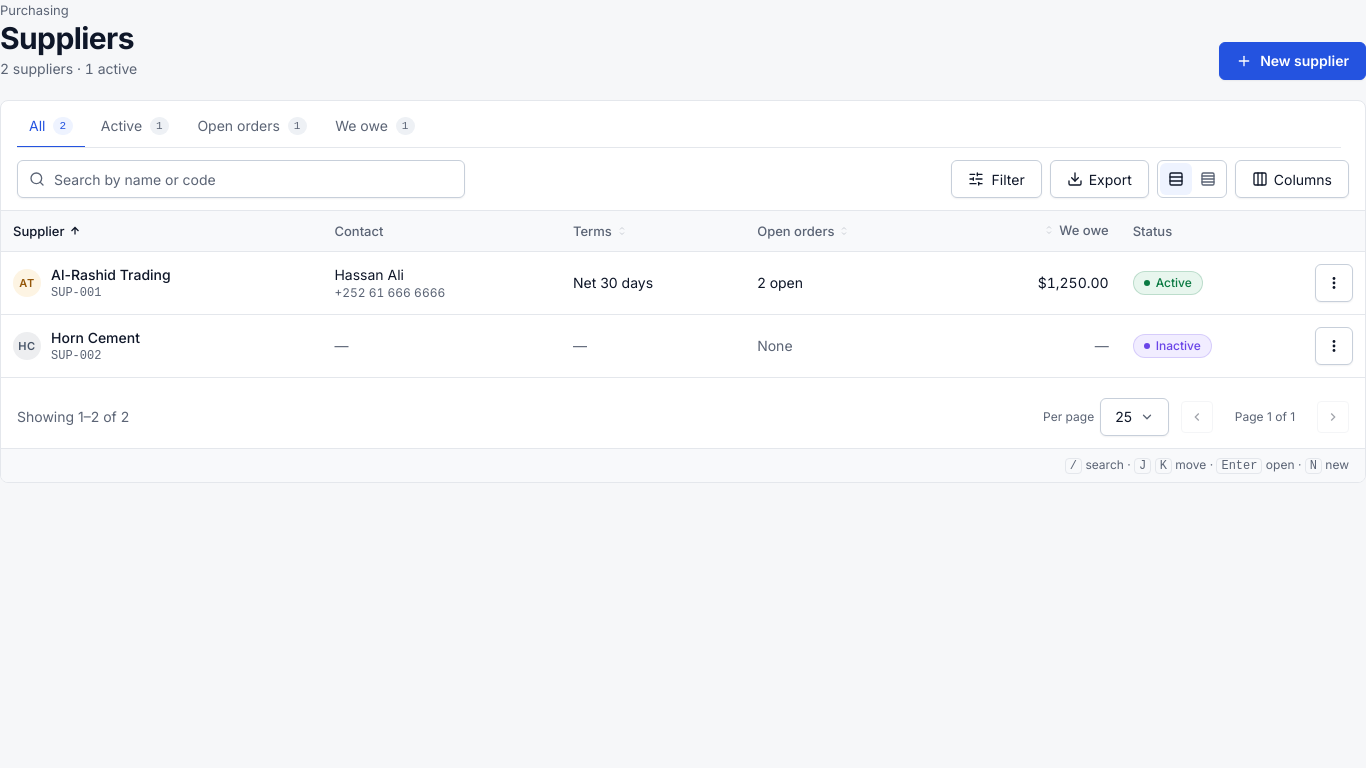
Test: SupplierList — edit form (A15 / D8) › surfaces the backend error verbatim
The width and height of the screenshot is (1366, 768).
Click the button named "Actions for Al-Rashid Trading": (1334, 282) [1315, 264, 1353, 302]
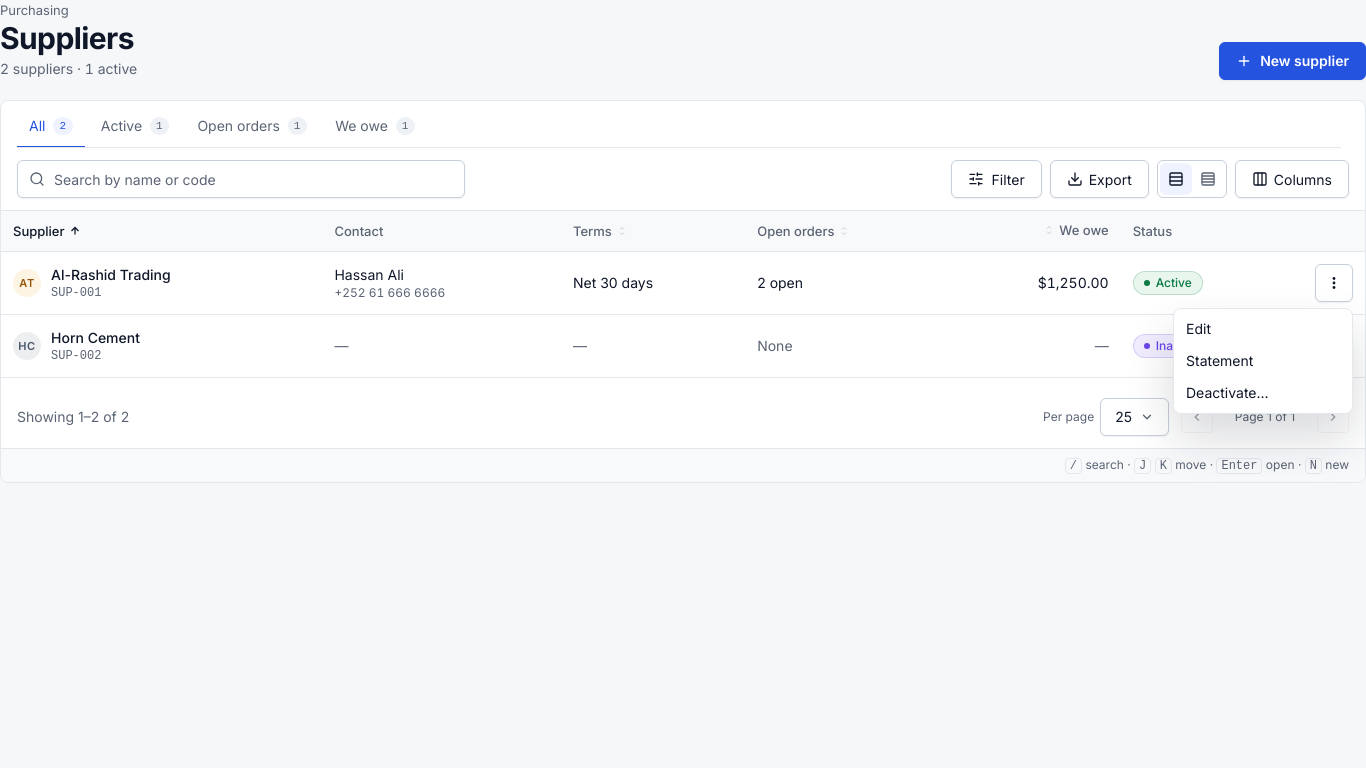
Click the menu item "Edit": (1198, 328) [1186, 320, 1211, 337]
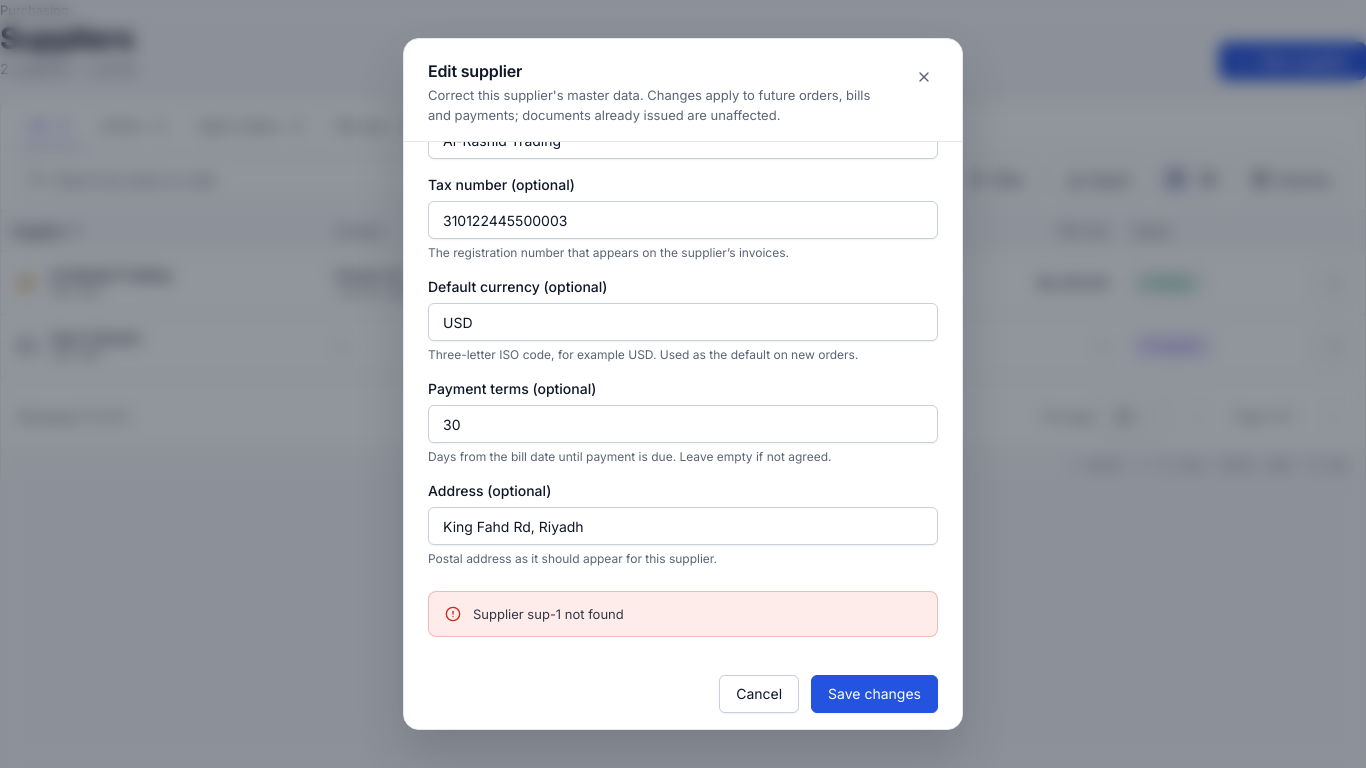
Result: the text "Supplier sup-1 not found" is shown at [473, 606, 624, 622]
